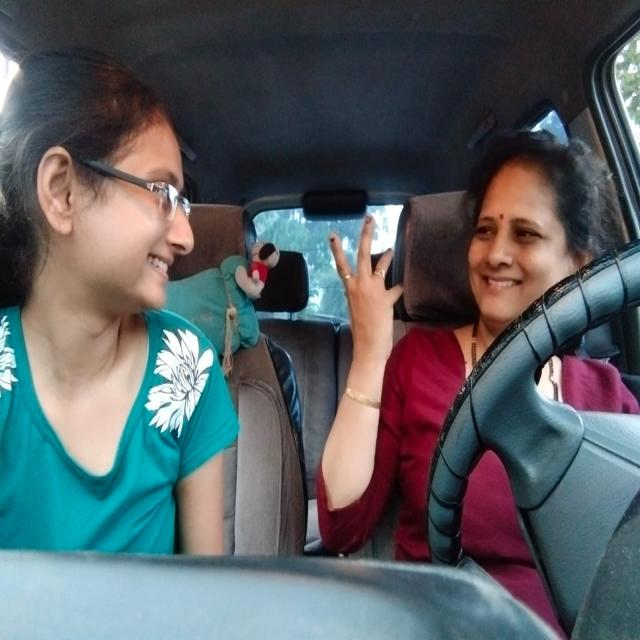LeftRight: (460, 124, 588, 330)
person: (6, 45, 198, 322)
talking: (476, 271, 528, 298), (142, 244, 177, 281)
